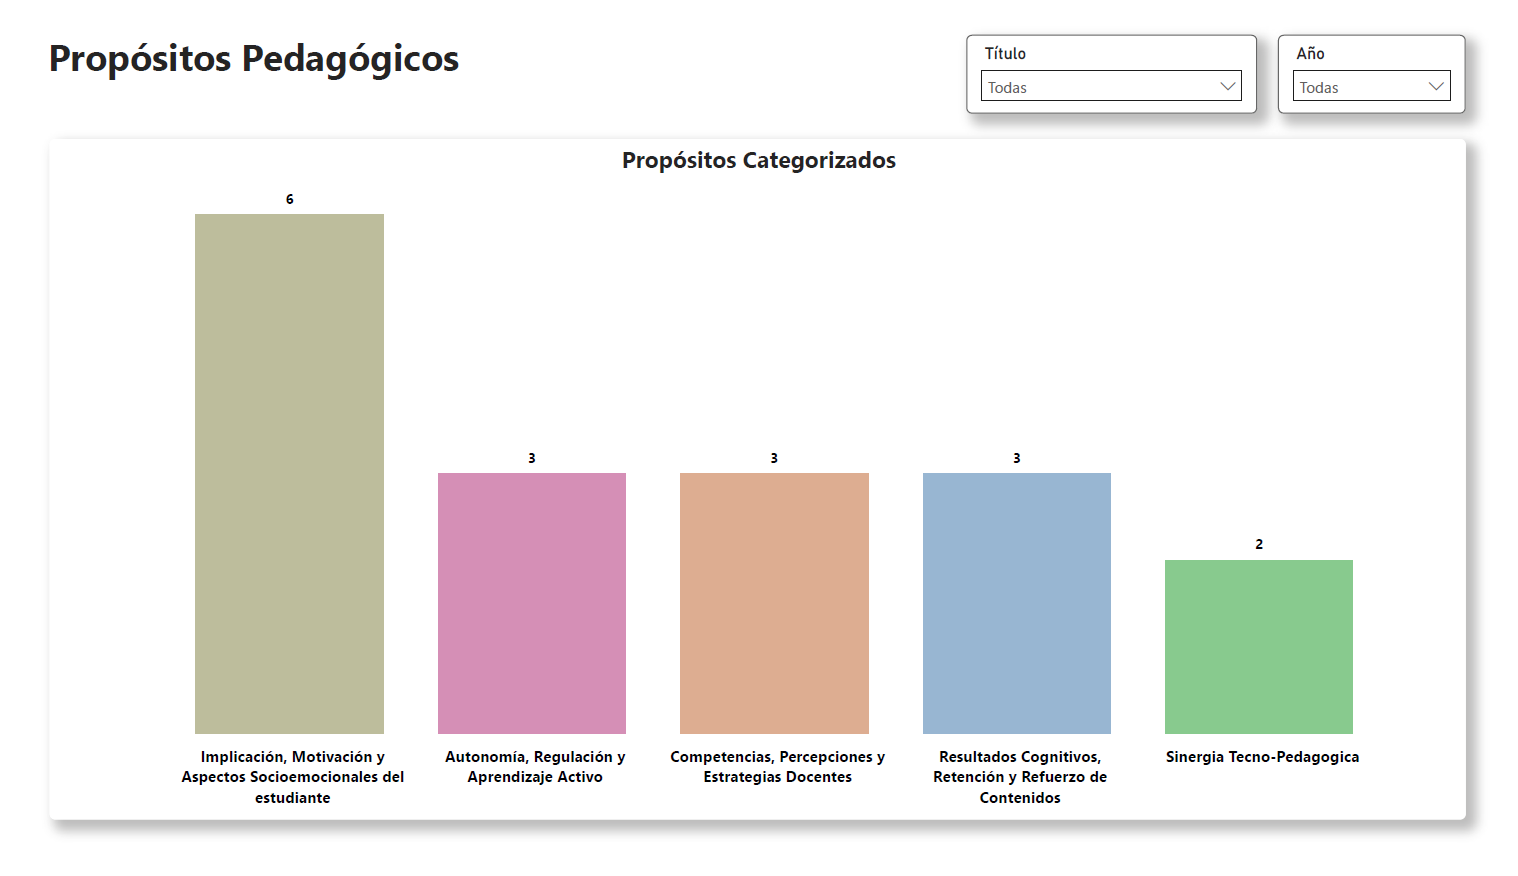

What the dashboard file says about the page in this screenshot:
{"tool":"powerbi","page":{"name":"RQ7","canvas":[1280,720],"ordinal":7},"visuals":[{"type":"textbox","box":[0,0,398.1,67.1],"z":0},{"type":"clusteredColumnChart","title":"Propósitos Categorizados","fields":{"Category":["Hoja1.Propósitos"],"Y":["CountNonNull(Hoja1.Título)"]},"box":[21,99,1236,594],"z":1000},{"type":"slicer","fields":{"Values":["Hoja1.Título"]},"box":[820.7,8.2,253.9,68.9],"z":2000},{"type":"slicer","fields":{"Values":["Hoja1.Año"]},"box":[1093,8,164,69],"z":3000}]}

Visuals, with their boxes in screenshot pixels (x1, y1, x2, y2), scaled from the page's 1280x720 canvas onto the 1518x876 screenshot:
textbox: BBox(0, 0, 472, 82)
"Propósitos Categorizados" clusteredColumnChart: BBox(25, 120, 1491, 843)
slicer - Hoja1.Título: BBox(973, 10, 1274, 94)
slicer - Hoja1.Año: BBox(1296, 10, 1491, 94)
